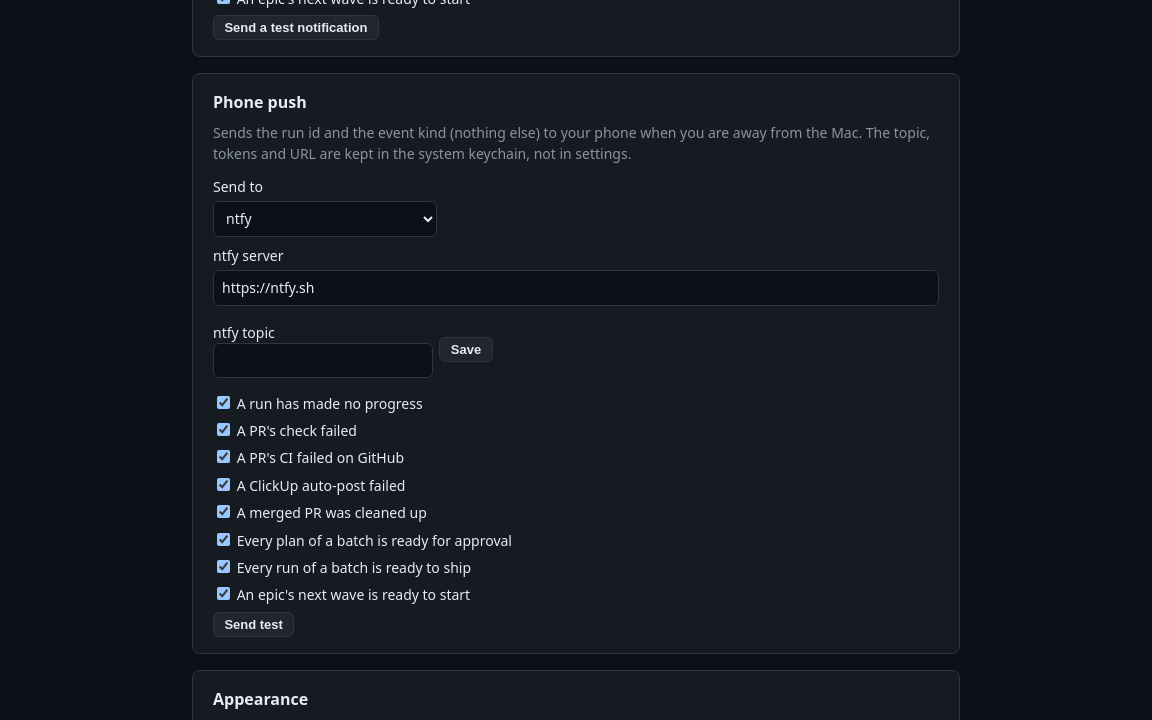
Test case: SettingsPage phone push › saves a secret to the keychain only, and shows the test result inline
(page scrolled)
Type "my-secret-topic" into the password field labelled "ntfy topic" at [323, 360], box [213,342,433,378]
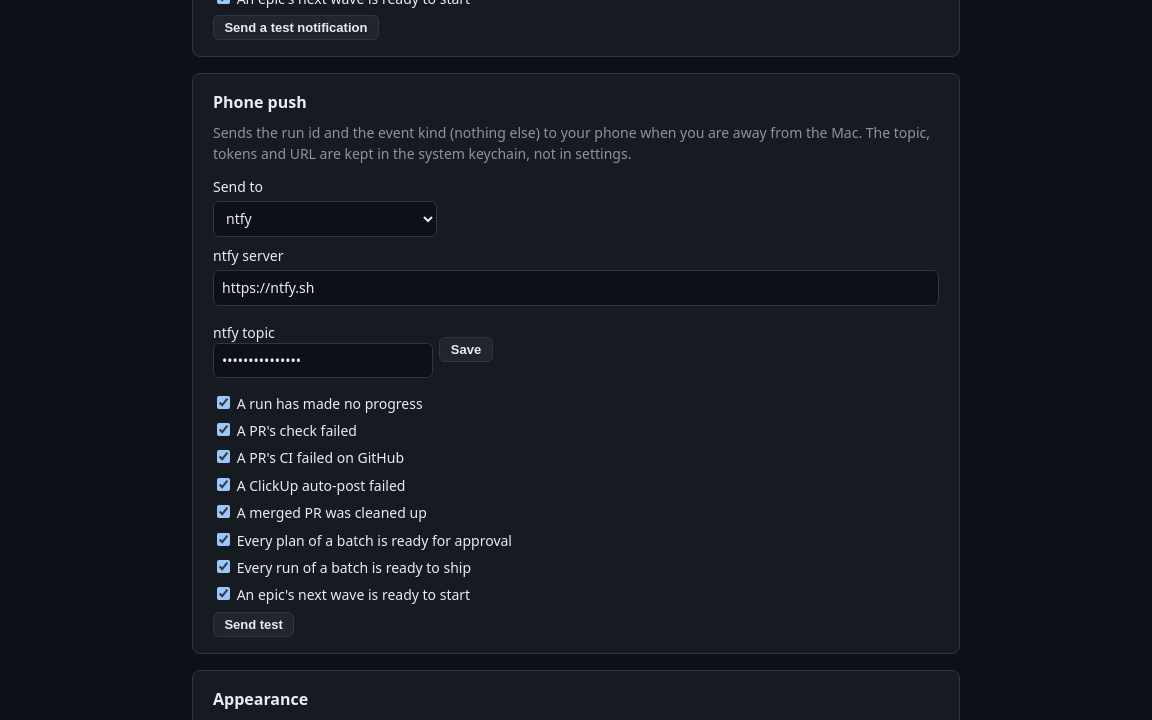
Click the button with aria-label "Save ntfy topic" at [466, 350], box [439,337,493,362]
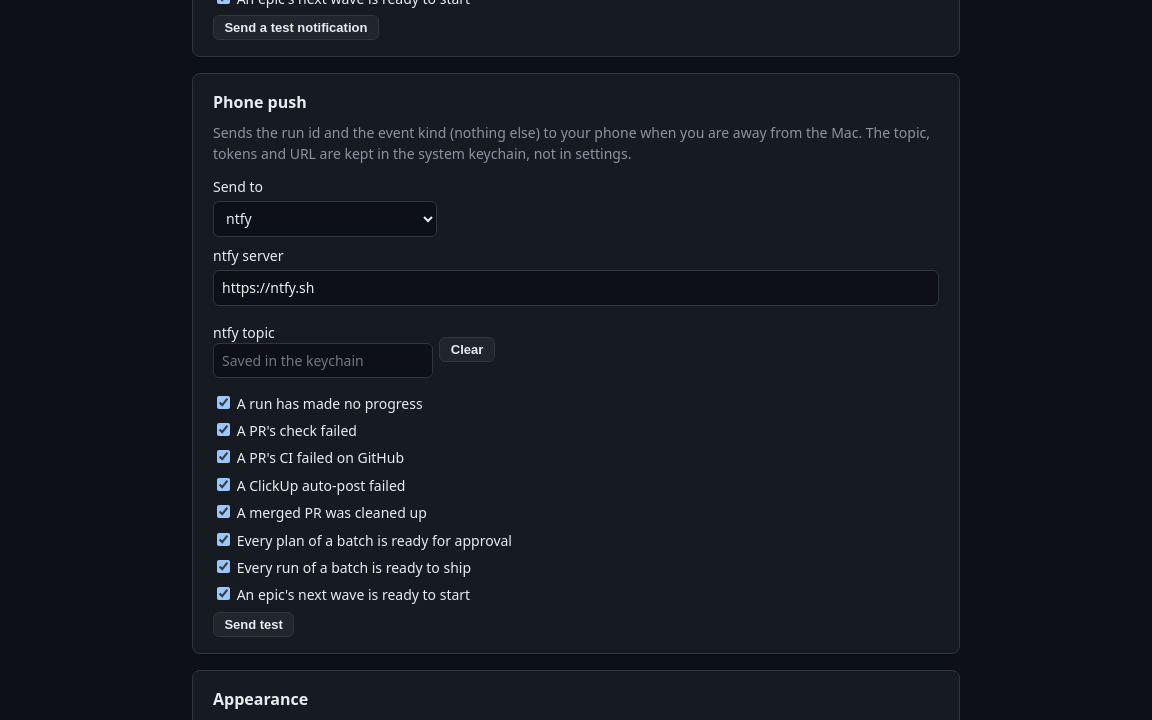
expect the password field labelled "ntfy topic" is empty: met, box [213,342,433,378]
Click the button "Send test" at [254, 624], box [213,612,294,637]
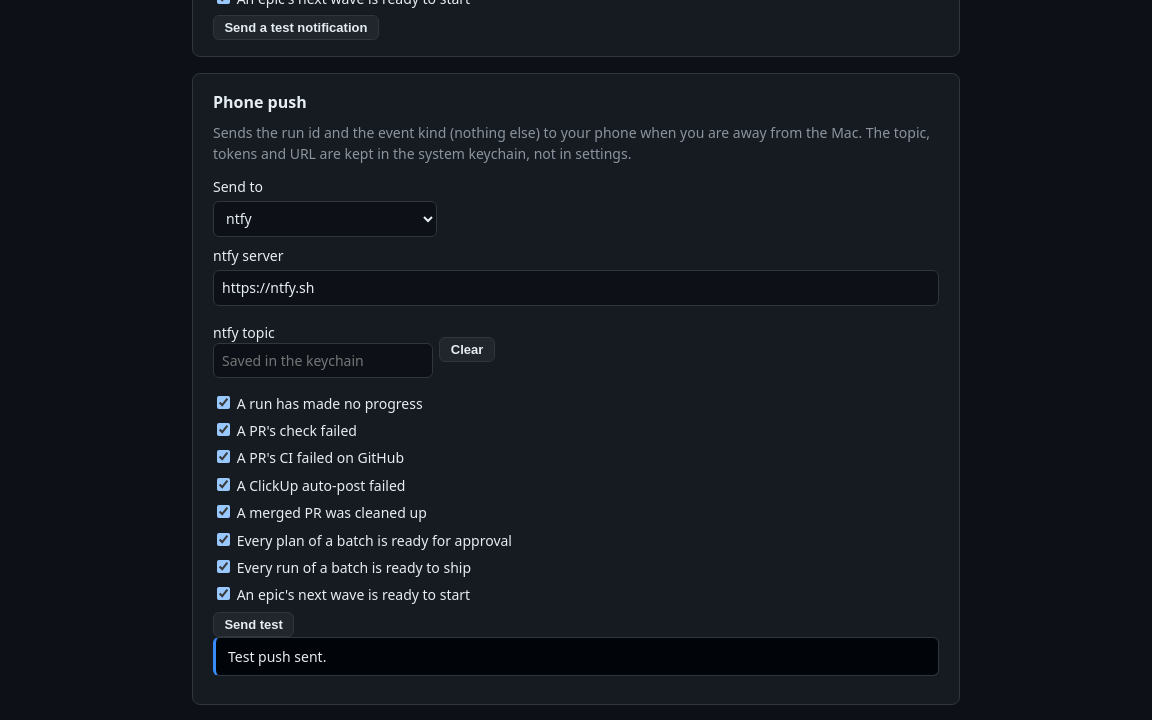
expect the text "Test push sent." is shown: met, box [228,647,326,666]
Click the button "Send test" at [254, 624], box [213,612,294,637]
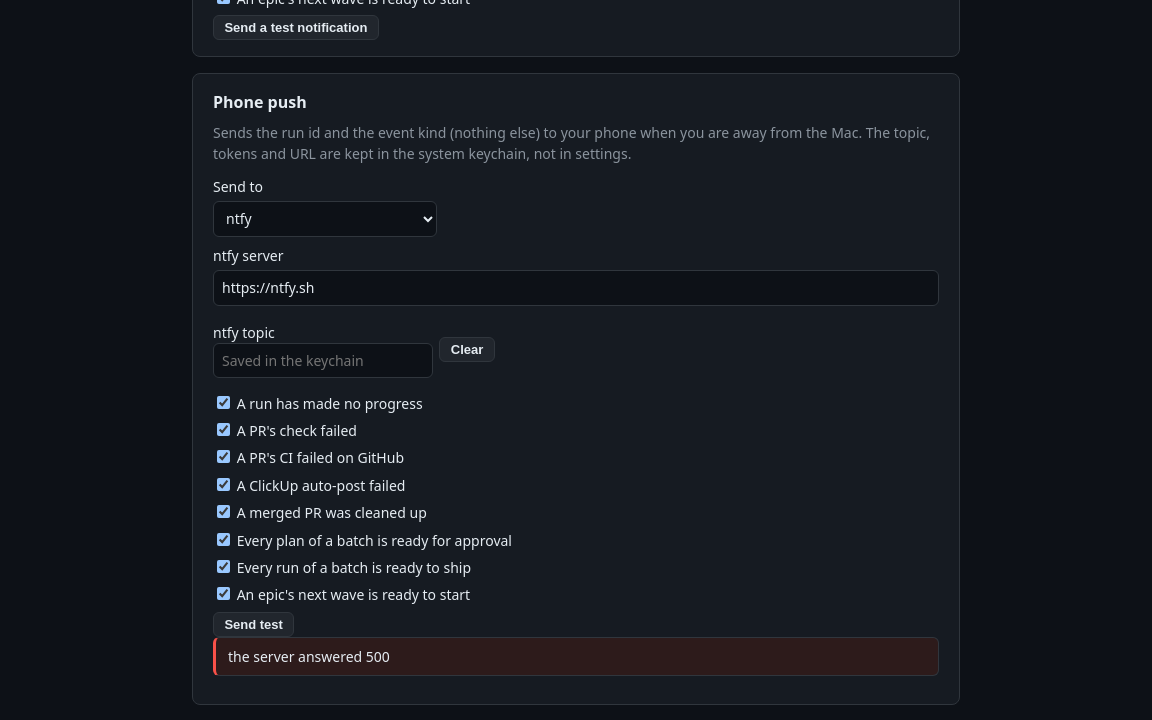
expect the text "the server answered 500" is shown: met, box [228,647,390,666]
